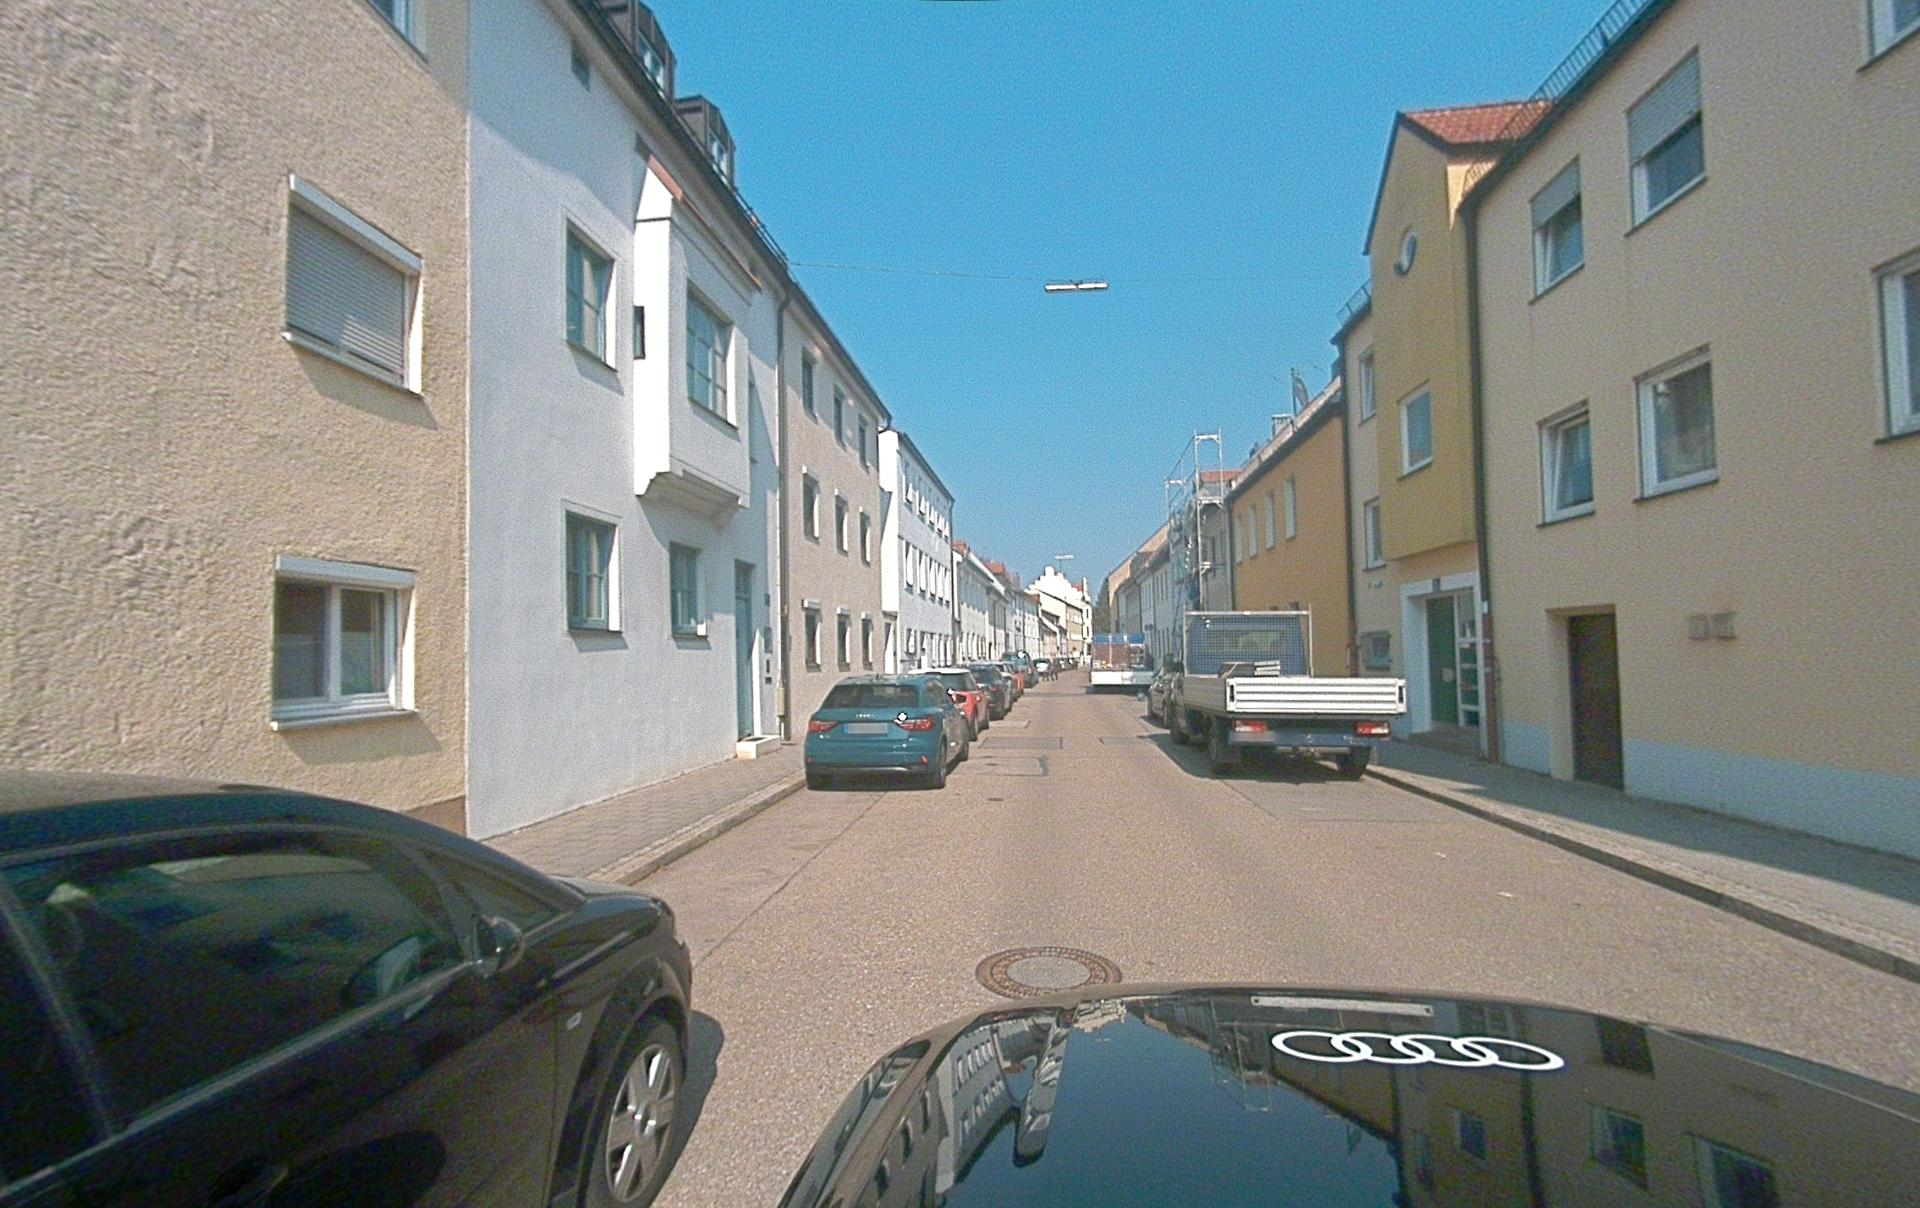car: (1, 768, 694, 1207), (775, 981, 1920, 1207), (803, 674, 970, 790), (909, 668, 991, 742), (966, 662, 1014, 718)
